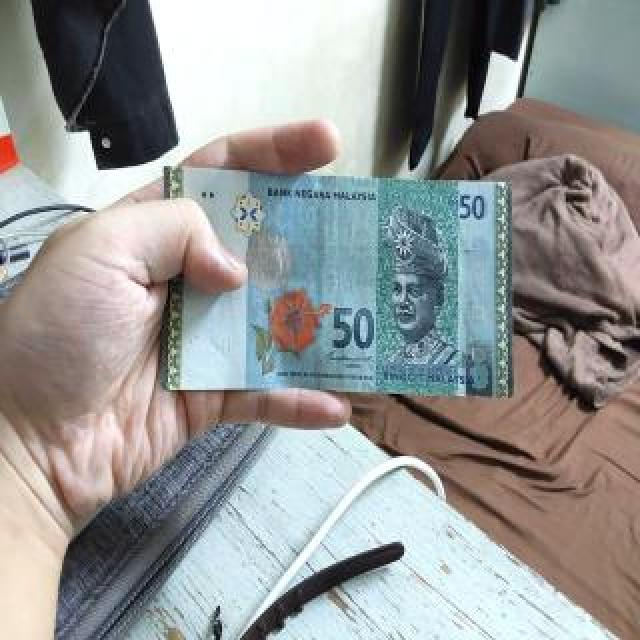50 Ringgit: (156, 166, 513, 393)
